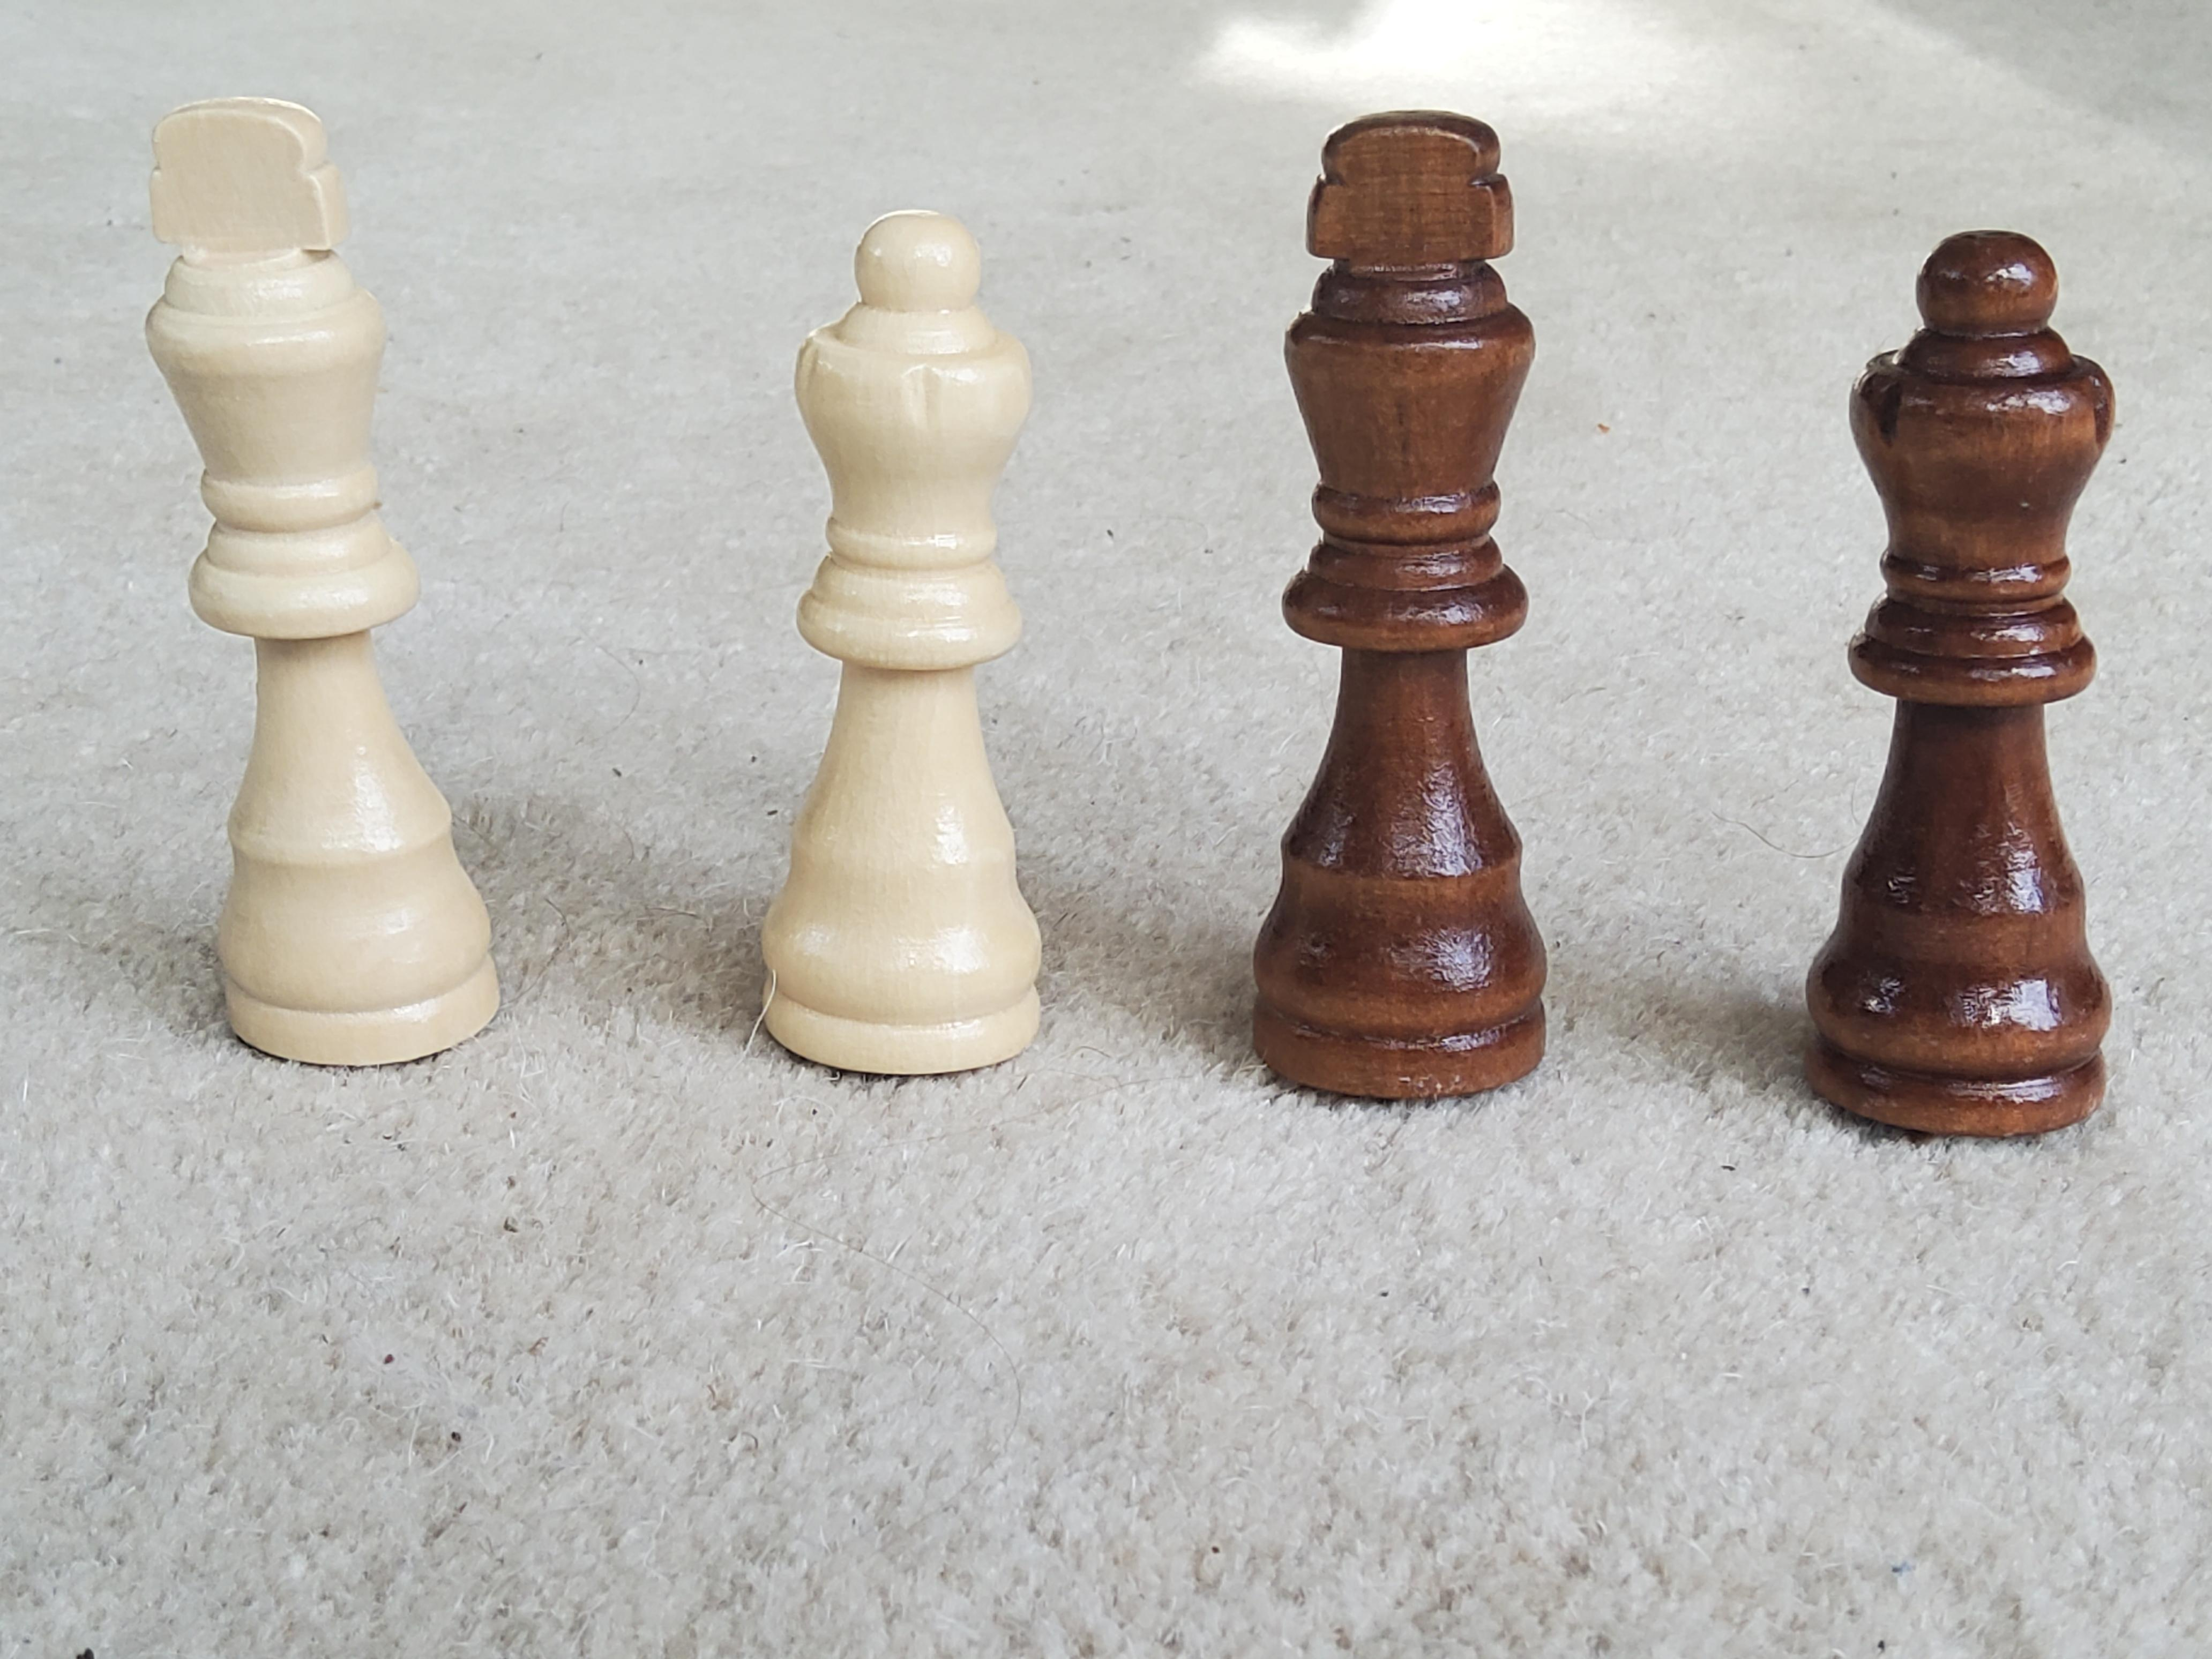schaak: (129, 99, 496, 1072), (1251, 99, 1552, 1117), (1801, 228, 2104, 1141), (752, 214, 1031, 1077)
